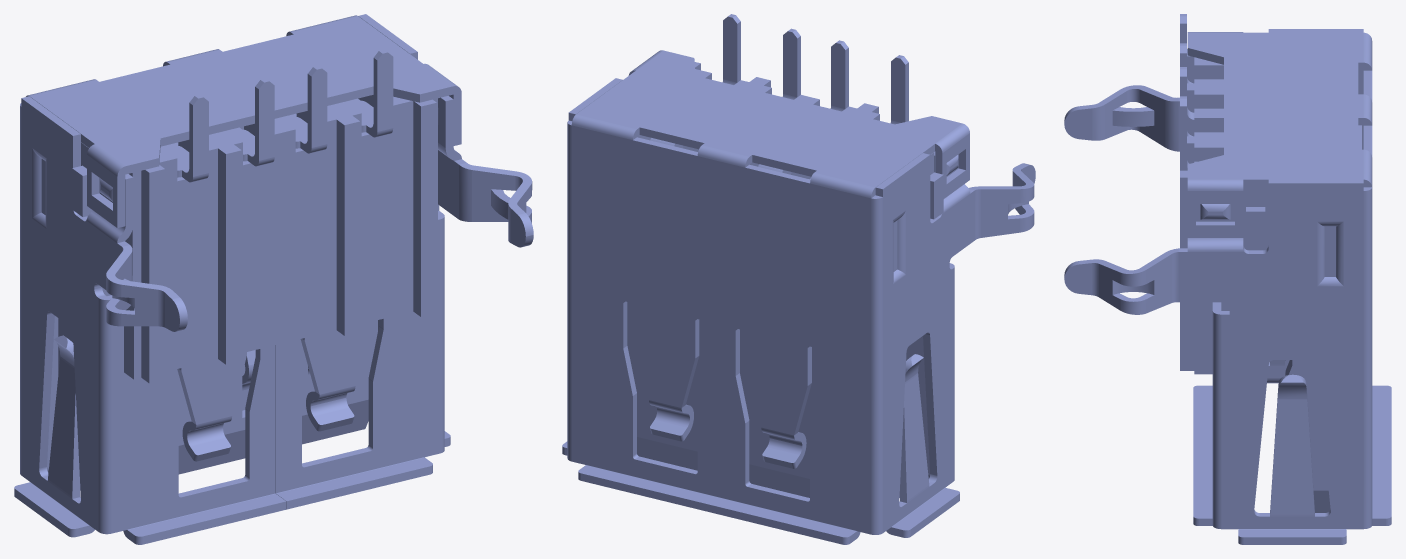
The model's file is USB Port.obj.
The picture shows the model from 3 angles, left to right: view 1: azimuth 30°, elevation 25°; view 2: azimuth 150°, elevation 25°; view 3: azimuth 270°, elevation 25°; orthographic projection. The views are drawn at different scales.
Parts seen in each view (by area): view 1: empty_6, empty_7, empty_5, empty_4, empty_3, empty_2; view 2: empty_6, empty_7, empty_3, empty_4, empty_5, empty_2; view 3: empty_6, empty_7, empty_4.
Part boxes in pixels (x1,y1,x2,y2): empty_6: [14, 14, 533, 544]; empty_7: [58, 95, 437, 474]; empty_5: [240, 65, 327, 410]; empty_4: [308, 49, 393, 393]; empty_3: [178, 78, 274, 421]; empty_2: [161, 94, 208, 182]; empty_6: [562, 50, 1035, 544]; empty_7: [627, 62, 943, 497]; empty_3: [758, 40, 848, 173]; empty_4: [650, 14, 740, 146]; empty_5: [782, 28, 800, 99]; empty_2: [890, 55, 908, 124]; empty_6: [1064, 29, 1391, 544]; empty_7: [1180, 49, 1361, 512]; empty_4: [1180, 96, 1189, 170].
Size of the model in its own units: 16 by 15.96 by 11.75.
